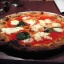basil: (12, 30, 32, 40), (13, 20, 26, 29), (42, 25, 53, 34)
pizza: (1, 11, 64, 57)
